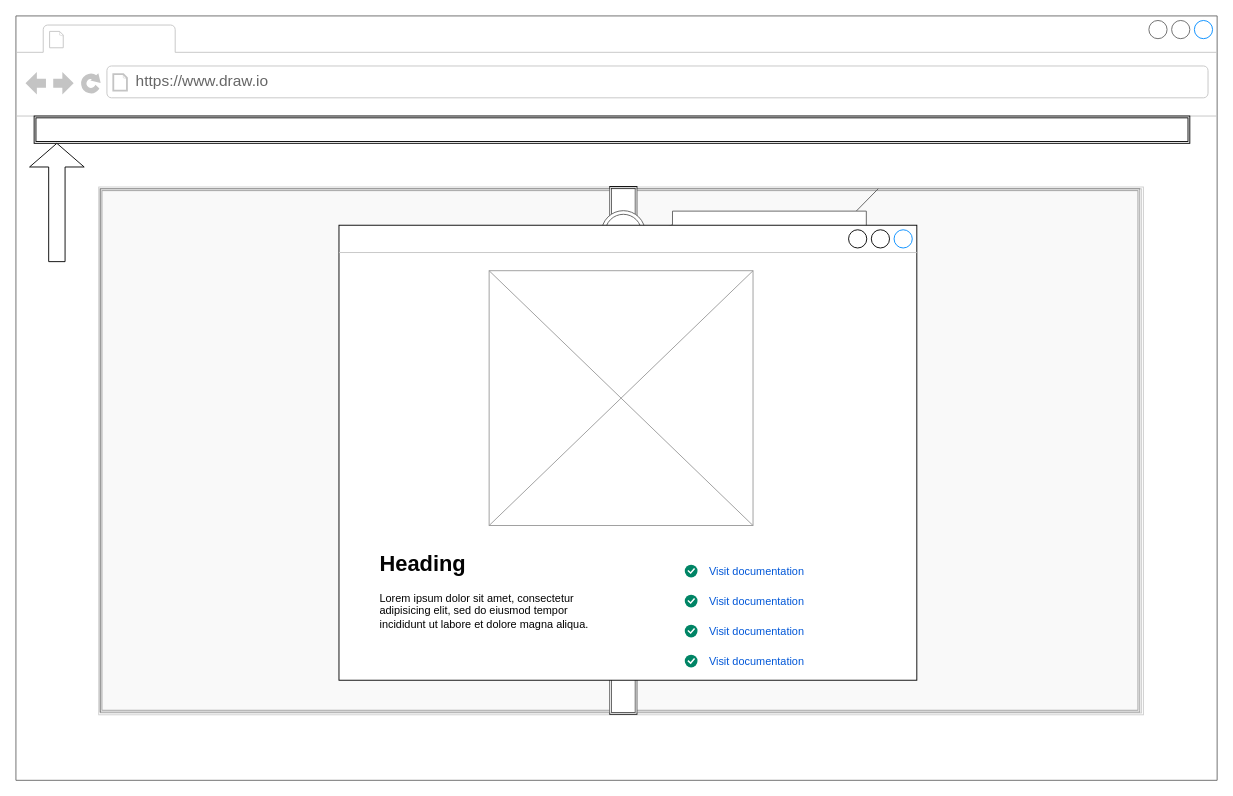
This 1233x796 diagram has some shape labels left out. Here are the shapes that lost their labels. From the top down, the box of each, then its label:
(70, 26, 171, 51): Page 1
(338, 224, 917, 680): Saturn V
